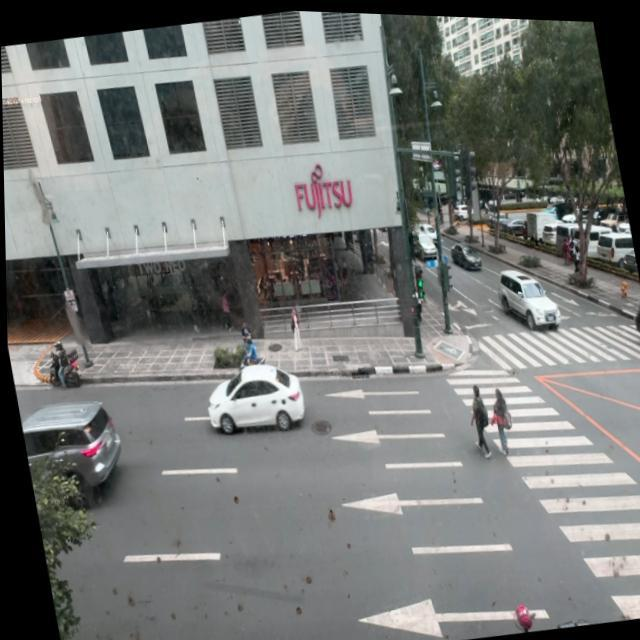jaywalking: (465, 384, 496, 459)
